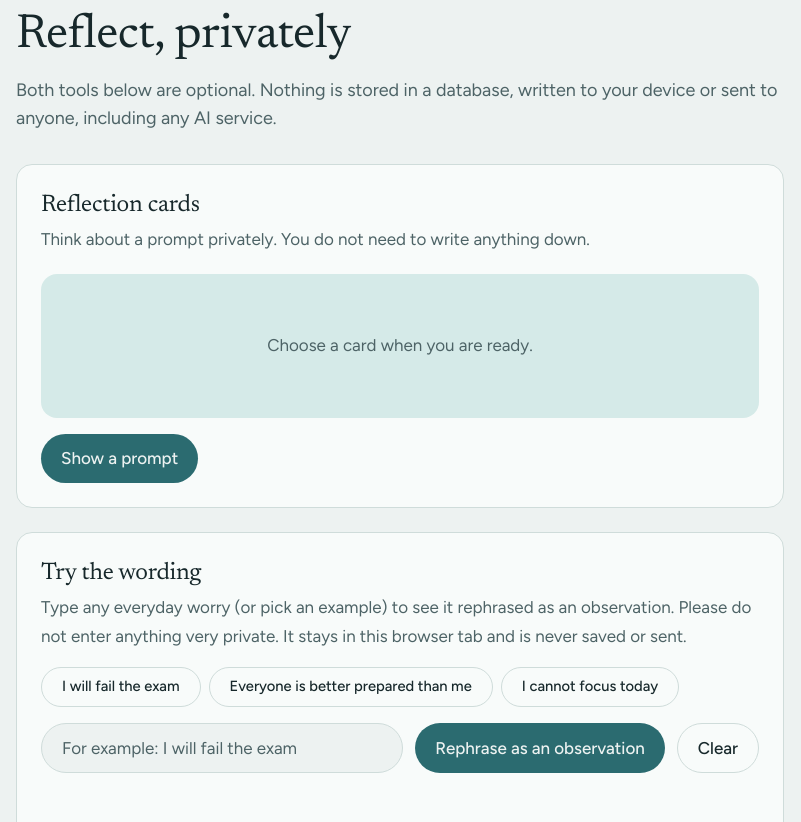
Test: Reflect page (privacy) › shows a reflection prompt on request
What coordinates should you click on to do the following:
click the button "Show a prompt"
I would click on:
 (120, 458)
Its box is [41, 434, 198, 483].
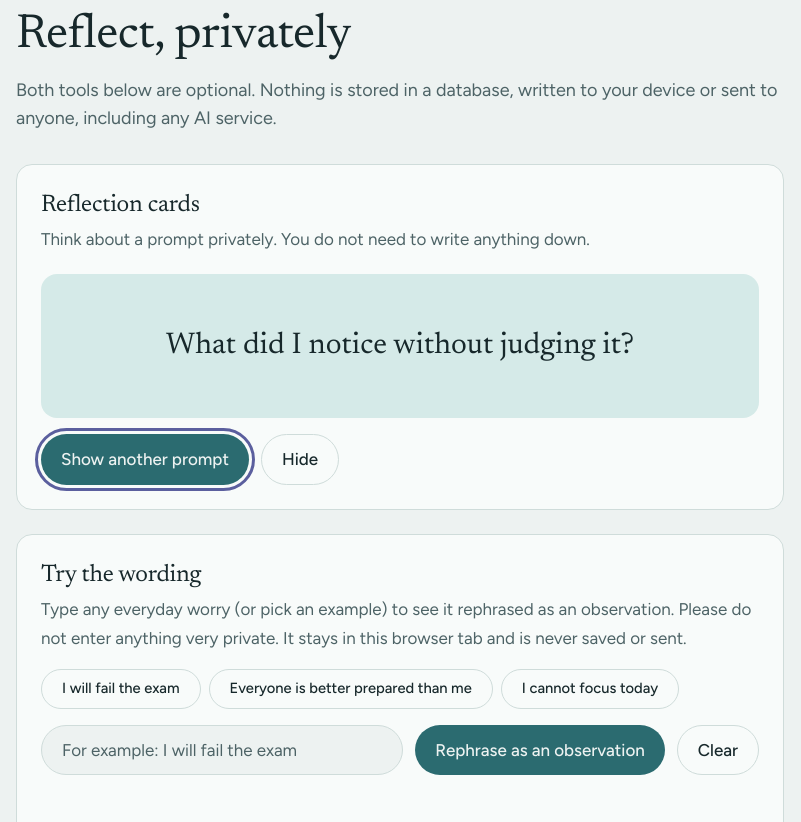
Check: the text "What did I notice without judging it?" is shown, box [166, 328, 634, 364]
